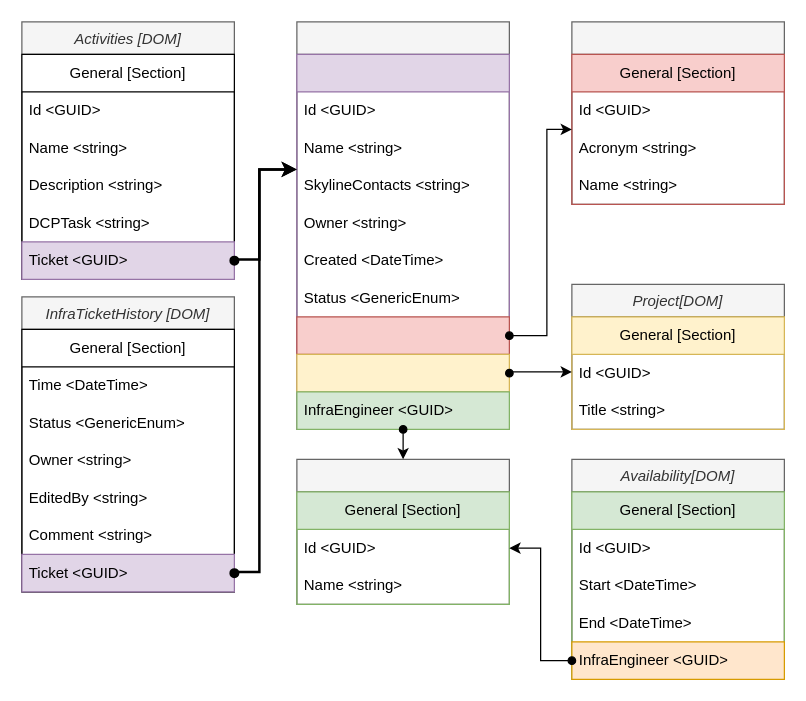
Image size: 806x701. Some labels were removed from this diagram. Each missing label, with the box of its shape:
Customer <GUID>: (296, 316, 509, 354)
Customer [DOM]: (571, 21, 784, 204)
InfraEngineer[DOM]: (296, 458, 509, 604)
InfraTicket [DOM]: (296, 21, 509, 429)
Project <GUID>: (296, 353, 509, 392)
Ticket info [Section]: (296, 53, 509, 429)
